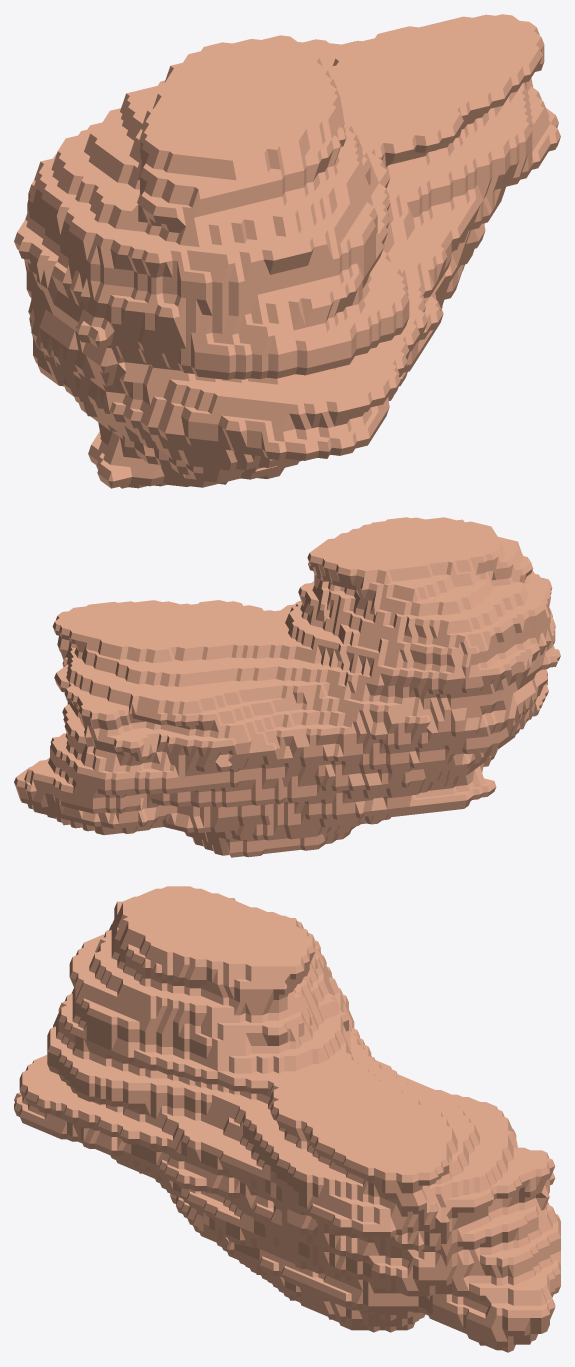
File: lesion.glb
3 views of the same model, one above another, from view 1: azimuth 30°, elevation 25°; view 2: azimuth 150°, elevation 25°; view 3: azimuth 270°, elevation 25° (orthographic). The views are drawn at different scales.
Parts seen in each view (by area): view 1: world; view 2: world; view 3: world.
Part boxes in pixels (x1,y1,x2,y2): world: (14, 14, 560, 488); world: (14, 517, 560, 857); world: (14, 886, 560, 1352).
Size of the model in its own units: 0.0766 by 0.05 by 0.0766.
